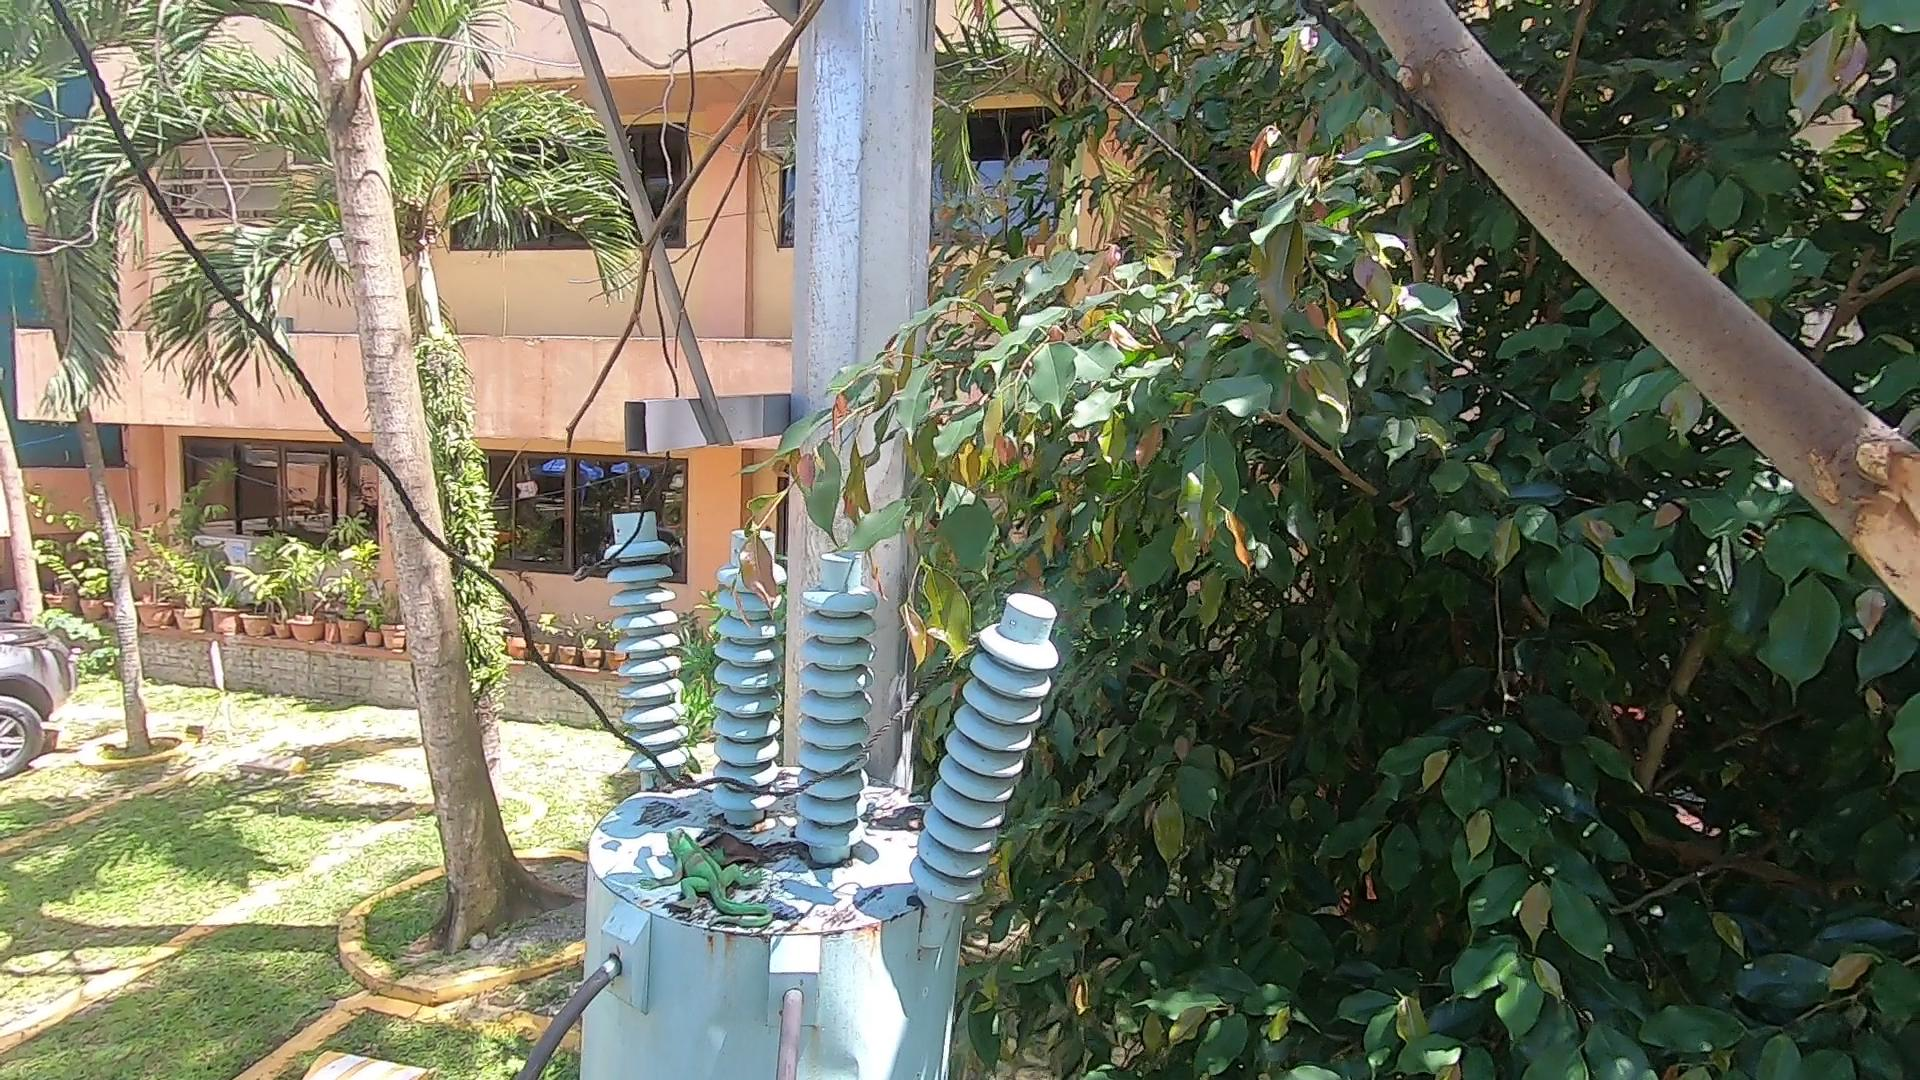branch with leaves: (678, 272, 1014, 669)
leaf: (691, 825, 814, 876), (853, 793, 926, 840), (649, 770, 698, 807)
tree branch: (1352, 18, 1908, 645)
